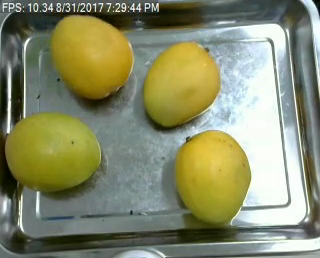Mango: (5, 113, 103, 192), (51, 11, 134, 100), (174, 129, 251, 223), (143, 39, 221, 127)
